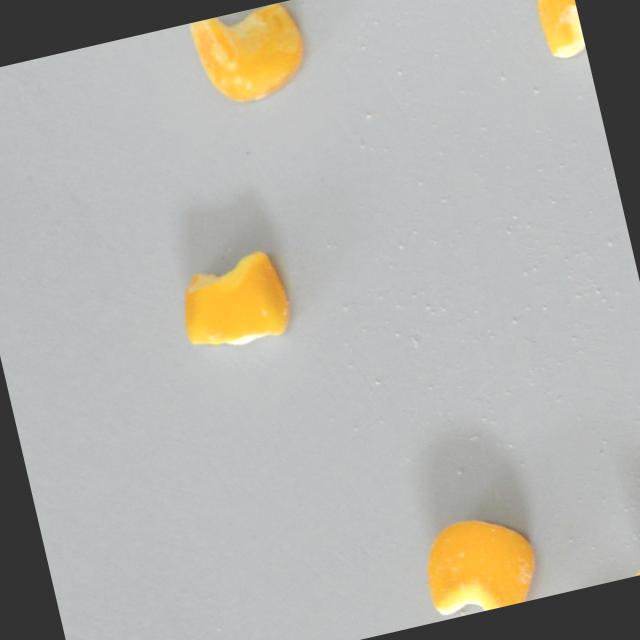no_canjicado: (412, 503, 544, 622), (170, 244, 297, 358), (532, 0, 586, 60)
pelicula: (187, 0, 312, 110)
